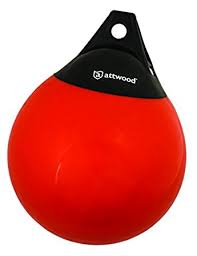buoy: (8, 71, 187, 244)
